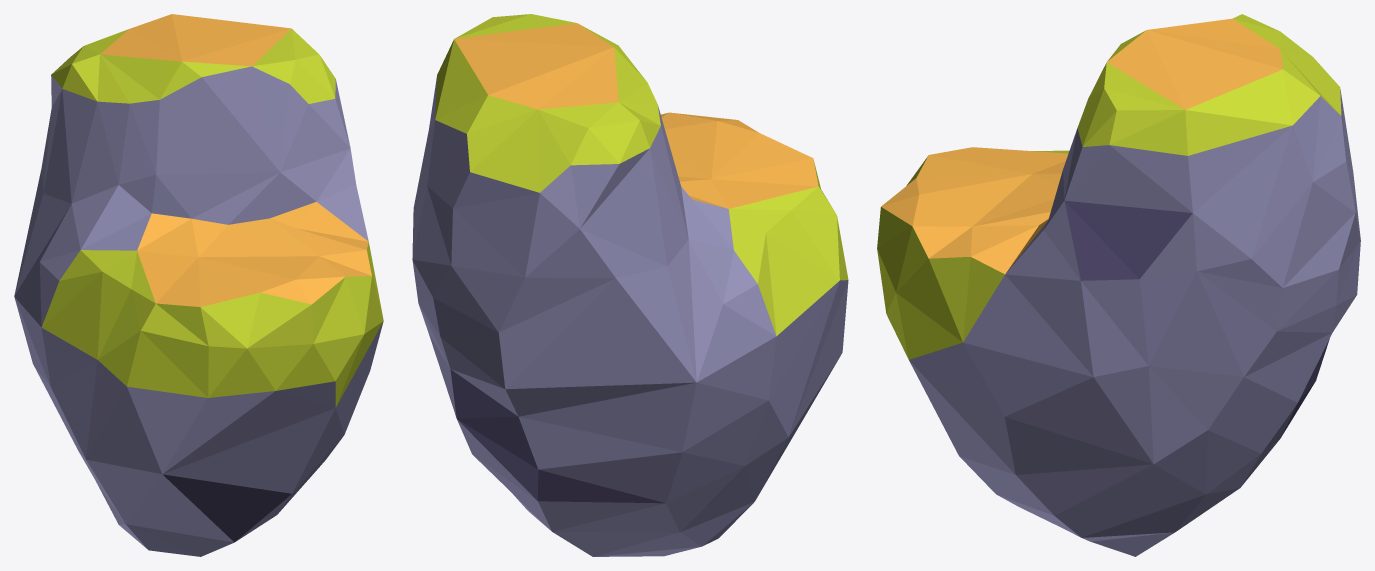
Rendered from Island-006.fbx.
3 renders of one model, left to right at view 1: azimuth 30°, elevation 25°; view 2: azimuth 150°, elevation 25°; view 3: azimuth 270°, elevation 25°, orthographic. The views are drawn at different scales.
Visible parts, largest first — view 1: Cube.001; view 2: Cube.001; view 3: Cube.001.
Boxes of the visible parts, left/top/right/bottom form: Cube.001: left=14, top=14, right=383, bottom=556; Cube.001: left=412, top=14, right=848, bottom=556; Cube.001: left=877, top=14, right=1360, bottom=556.
Bounding box in the file's own units: 2009 × 3065 × 2600.
